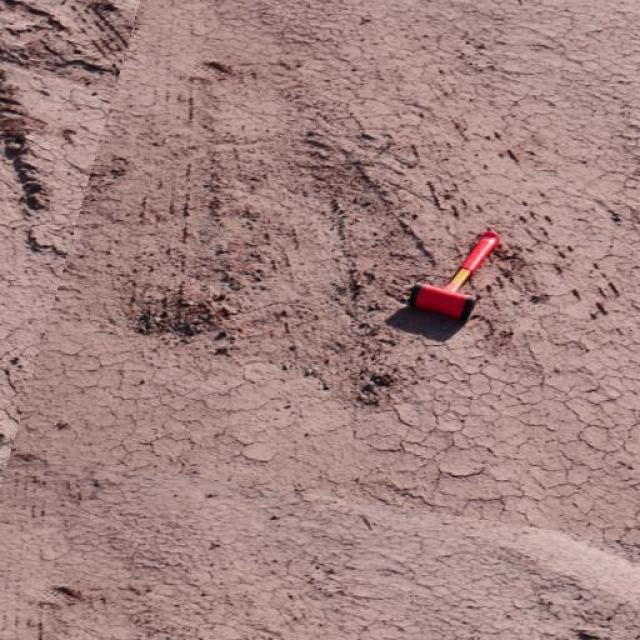mallet: (410, 229, 502, 321)
